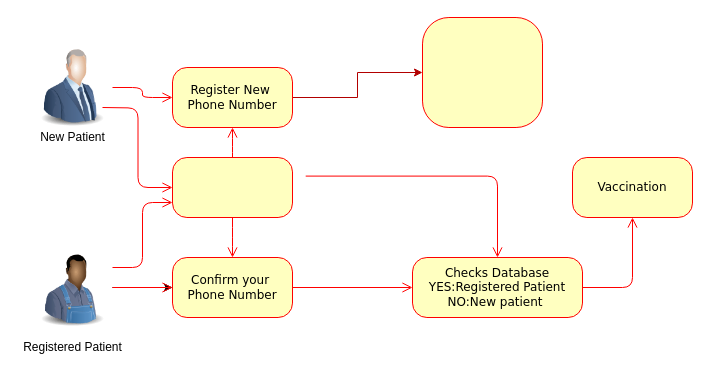
The diagram is 710 pixels wide and 375 high, and some of its shapes have lost their labels. Each missing label, with the centre of its shape:
Aadhar Number: (x=232, y=187)
Enter New Details: Aadhar number Age OTP Stores into Data base: (x=482, y=72)
